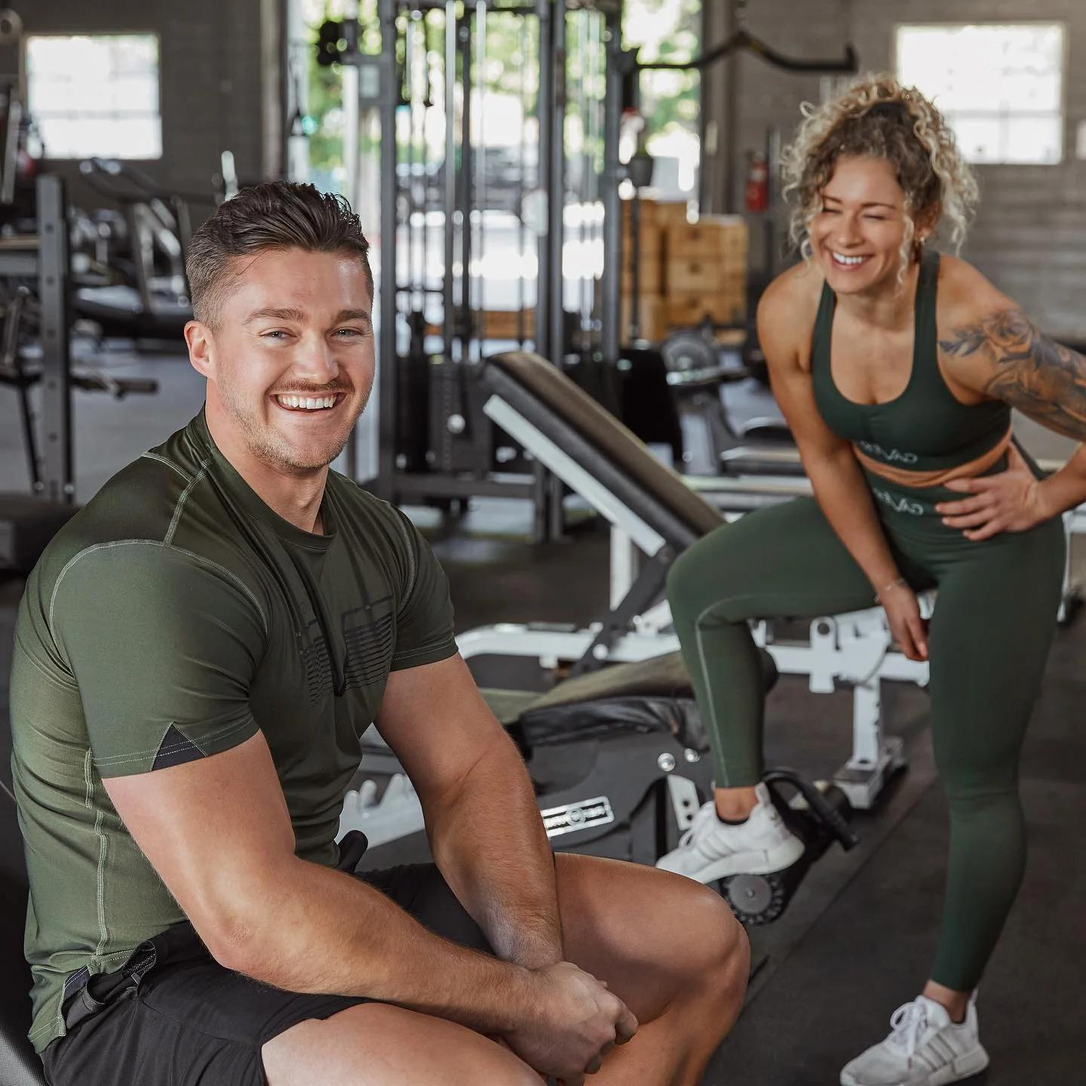Shorts: (33, 862, 549, 1086)
short sleeve shirt: (5, 409, 467, 1050)
trousers: (663, 439, 1071, 999)
vest: (805, 243, 1024, 477)
